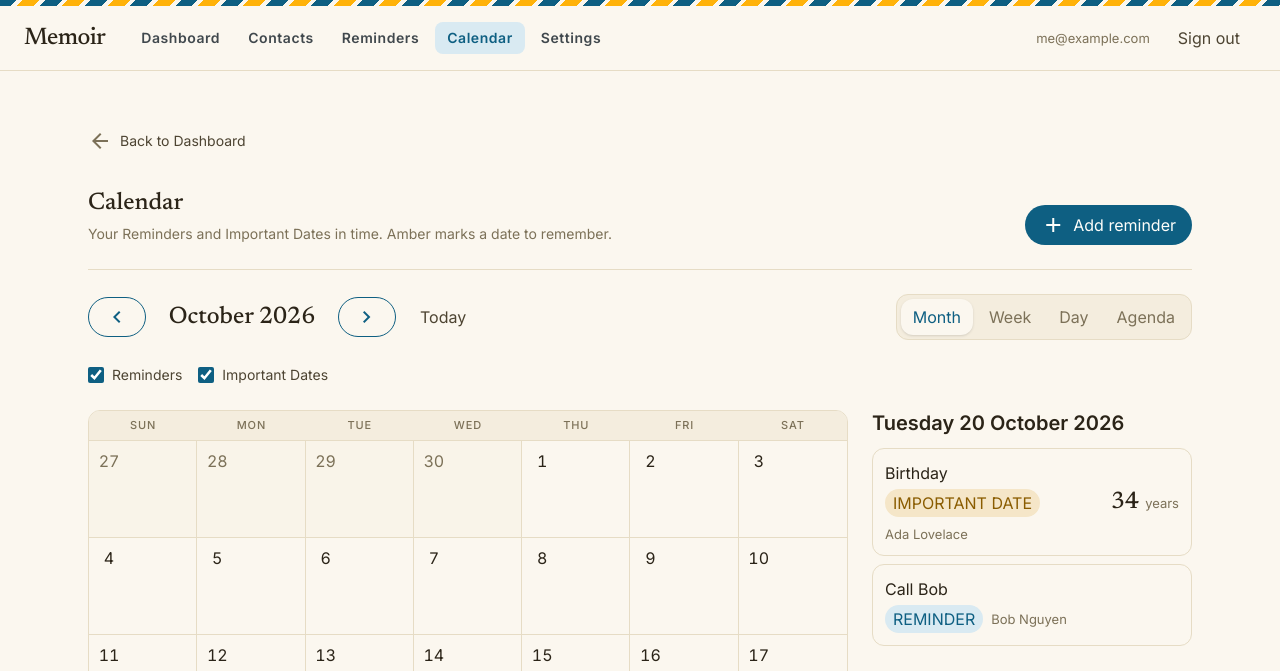
Add reminder from the Calendar › shows the error when the Reminder can't be saved
Click the button "Add reminder" at [1109, 225], box [1025,205,1192,245]
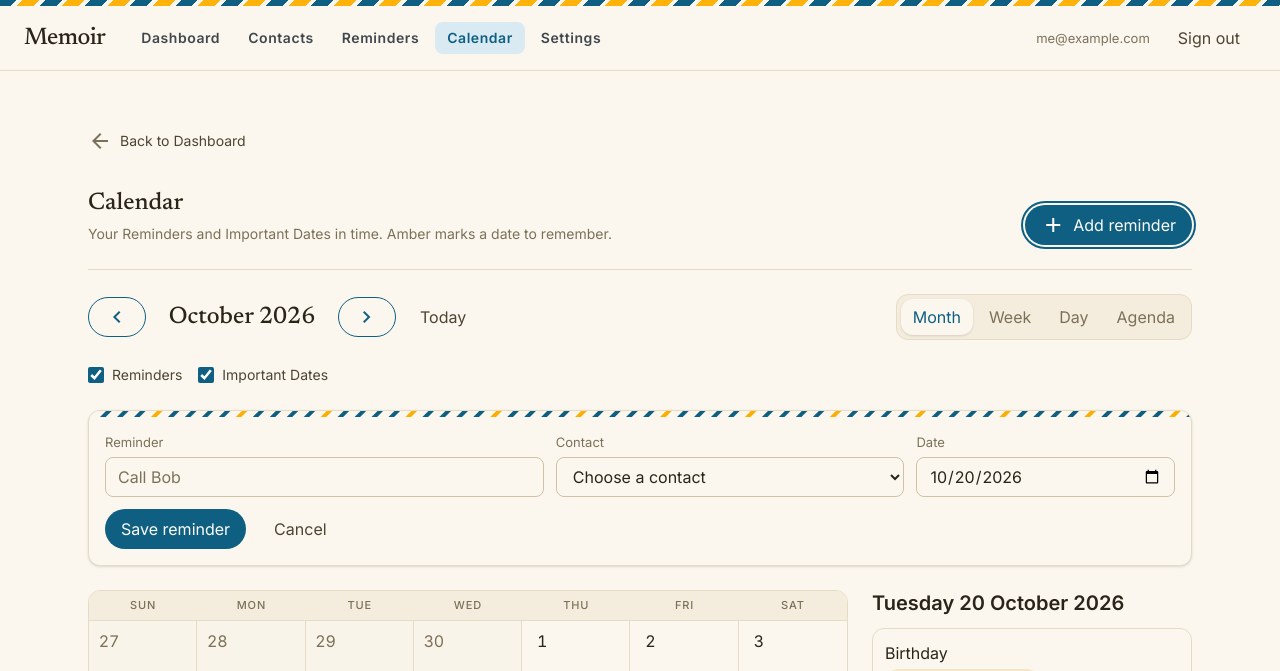
Select "Ada Lovelace" in the dropdown labelled "Contact" at [730, 477], box [556,457,904,497]
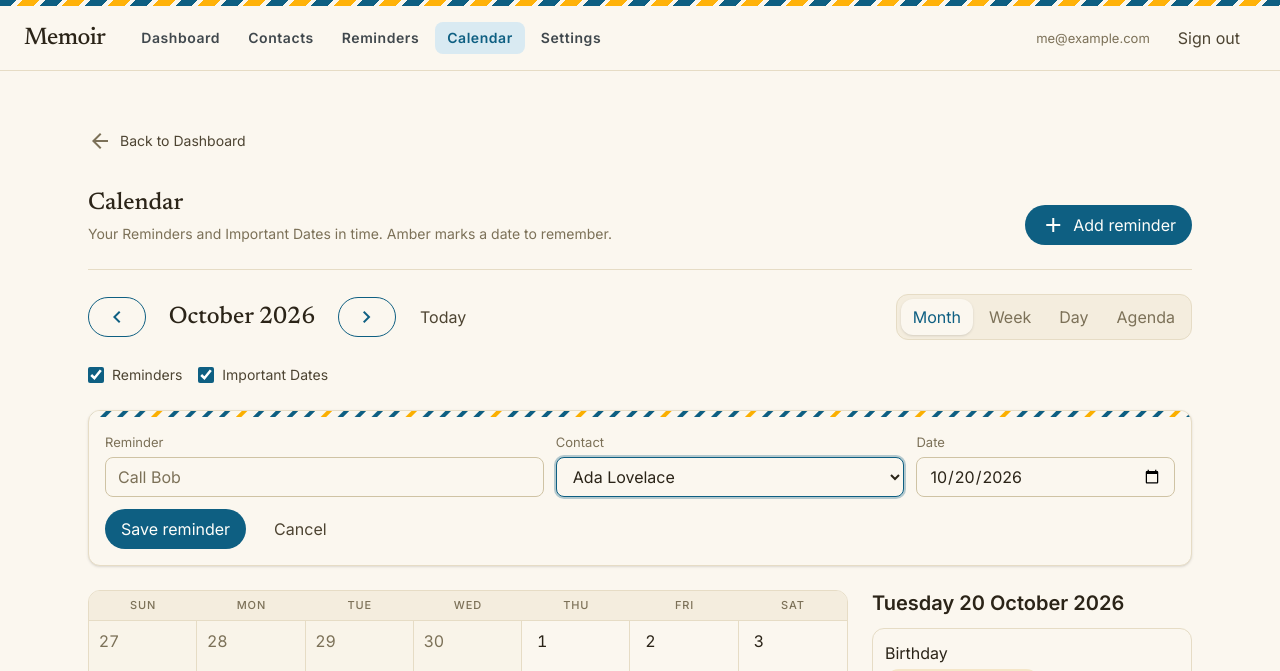
Click the button "Save reminder" at [176, 529], box [105,509,246,549]
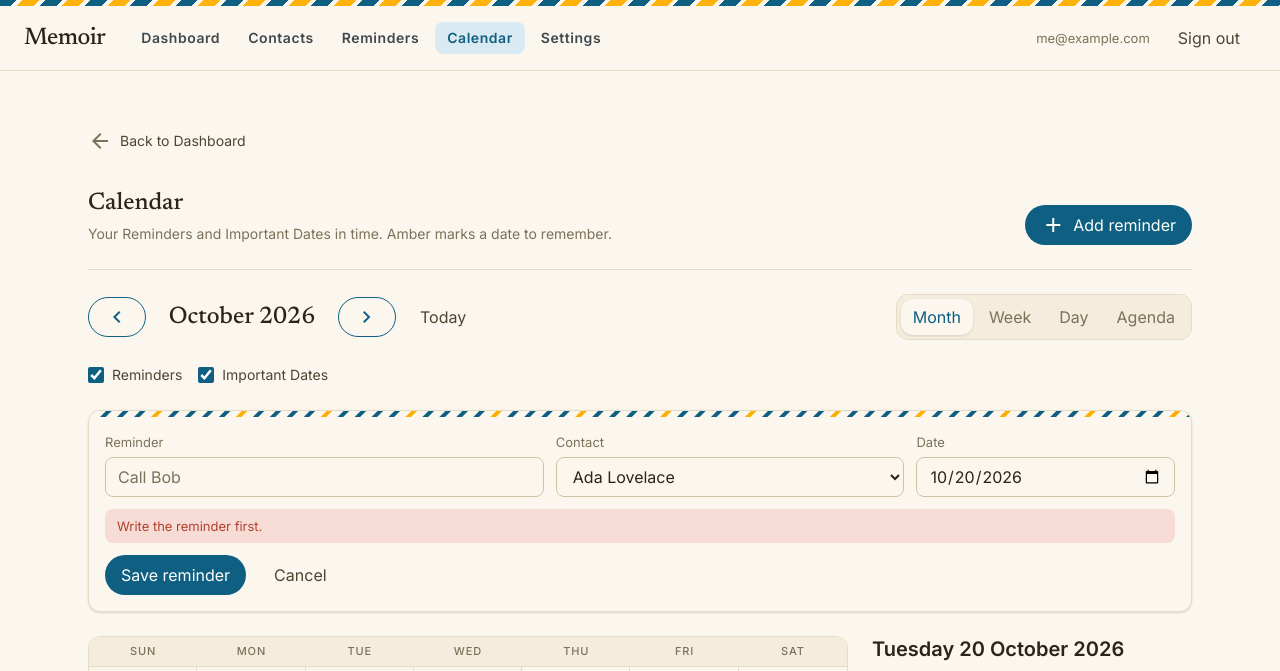
Check: the text "Write the reminder first." is shown, box [105,509,1175,543]
